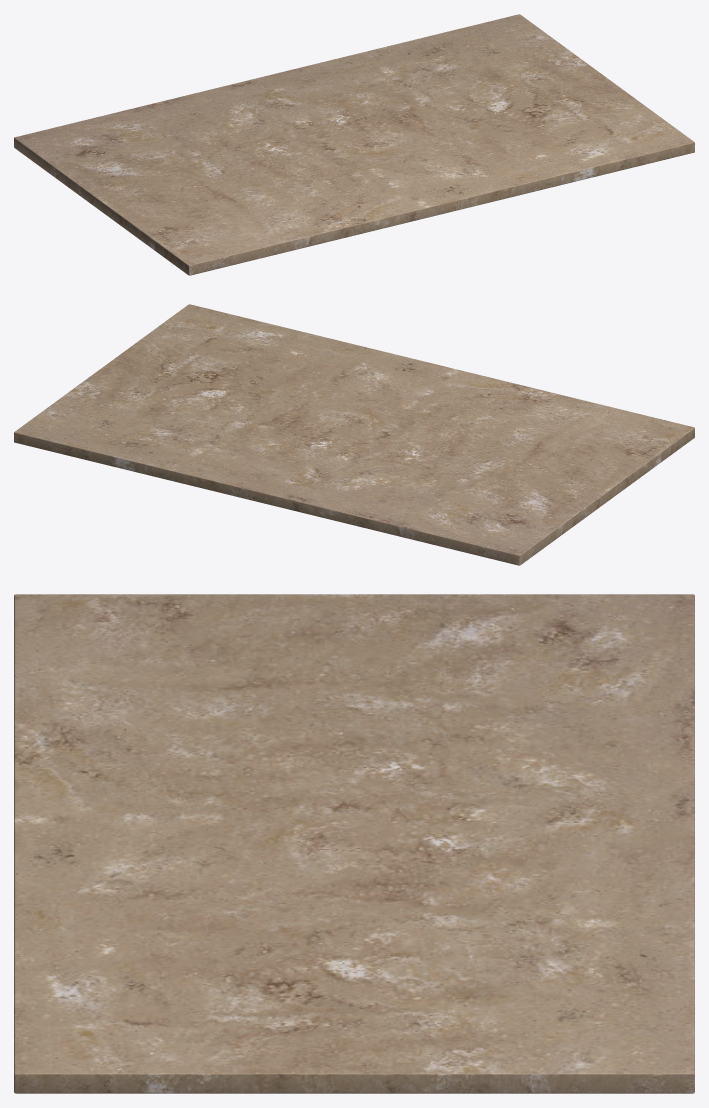
Rendered from countertop-2m-by-1.2m.glb.
3 views of the same model, one above another, from view 1: azimuth 30°, elevation 25°; view 2: azimuth 150°, elevation 25°; view 3: azimuth 270°, elevation 25° (orthographic). The views are drawn at different scales.
Visible parts, largest first — view 1: countertop; view 2: countertop; view 3: countertop.
Part boxes in pixels (left/top/right/bottom): countertop: left=14, top=14, right=694, bottom=275; countertop: left=14, top=304, right=694, bottom=565; countertop: left=14, top=594, right=694, bottom=1093.
Size of the model in its own units: 2 by 0.04 by 1.2.
1 material, 1 textured.
